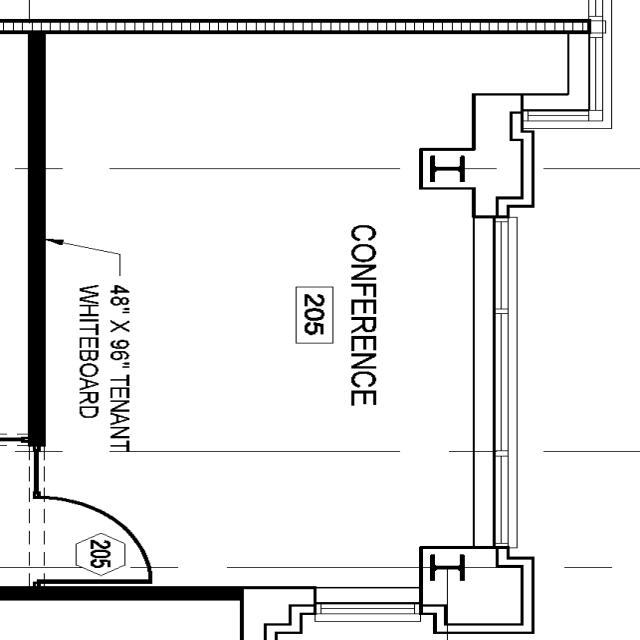Doors: (28, 489, 158, 585)
